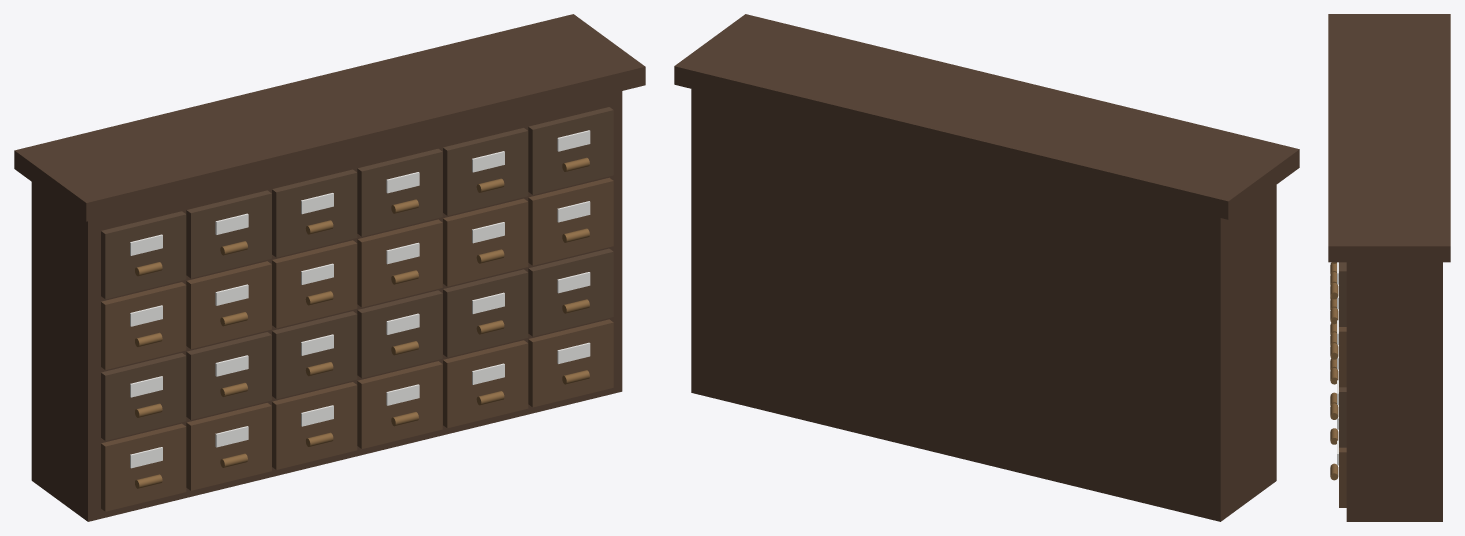
File: apothecary.glb
3 views of the same model, side by side, from view 1: azimuth 30°, elevation 25°; view 2: azimuth 150°, elevation 25°; view 3: azimuth 270°, elevation 25° (orthographic). The views are drawn at different scales.
Parts seen in each view (by area): view 1: Counter, Walnut cabinet, Drawer 2-5, Drawer 1-3, Drawer 0-1, Drawer 1-5, Drawer 2-3, Drawer 0-3, Drawer 3-5, Drawer 1-1, Drawer 3-1, Drawer 0-5 (+14 smaller); view 2: Walnut cabinet, Counter; view 3: Counter, Walnut cabinet, Drawer 3-5, Drawer 0-5, Drawer 1-5, Drawer 2-5.
Boxes of the visible parts, x1,y1,x2,y2 form: Counter: (14, 14, 645, 221); Walnut cabinet: (31, 91, 622, 521); Drawer 2-5: (528, 177, 613, 265); Drawer 1-3: (357, 290, 442, 378); Drawer 0-1: (186, 403, 271, 490); Drawer 1-5: (528, 248, 613, 336); Drawer 2-3: (357, 219, 442, 307); Drawer 0-3: (357, 361, 442, 448); Drawer 3-5: (528, 107, 613, 194); Drawer 1-1: (186, 332, 271, 419); Drawer 3-1: (186, 190, 271, 278); Drawer 0-5: (528, 319, 613, 407); Walnut cabinet: (691, 89, 1276, 521); Counter: (674, 14, 1299, 219); Counter: (1328, 14, 1450, 262); Walnut cabinet: (1346, 262, 1442, 521); Drawer 3-5: (1339, 262, 1346, 326); Drawer 0-5: (1339, 447, 1346, 507); Drawer 1-5: (1339, 387, 1346, 447); Drawer 2-5: (1339, 327, 1346, 387).
Bounding box in the file's own units: 3.14 × 1.77 × 0.7.
